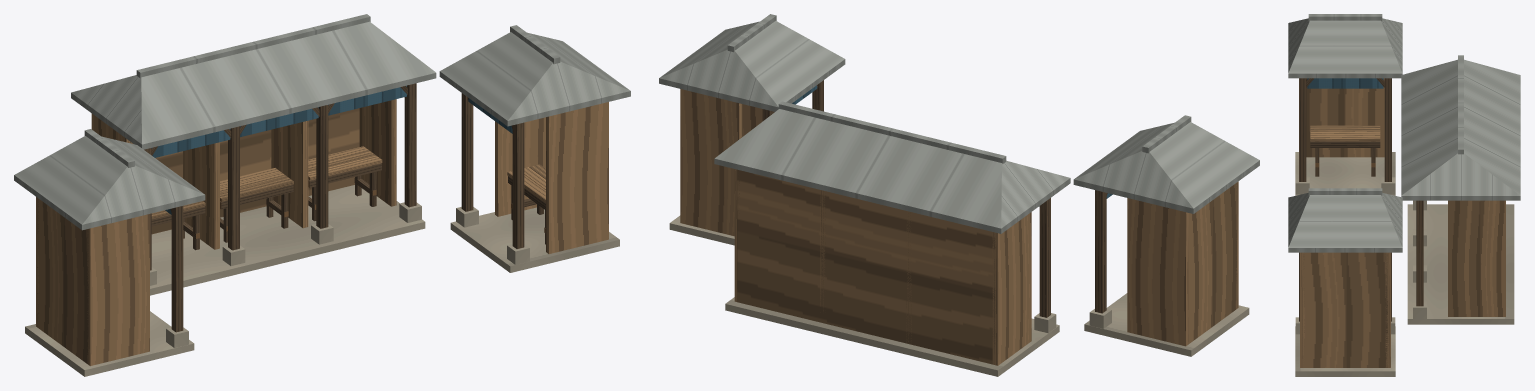
The model's file is brazzaville.glb.
3 renders of one model, left to right at view 1: azimuth 30°, elevation 25°; view 2: azimuth 150°, elevation 25°; view 3: azimuth 270°, elevation 25°, orthographic. The views are drawn at different scales.
Visible parts, largest first — view 1: brazzaville; view 2: brazzaville; view 3: brazzaville.
Boxes of the visible parts, bbox=[...] form: brazzaville: bbox=[14, 14, 630, 376]; brazzaville: bbox=[659, 14, 1259, 376]; brazzaville: bbox=[1288, 14, 1520, 376].
Size of the model in its own units: 7.32 by 2.5 by 3.2.
1 material, 1 textured.
